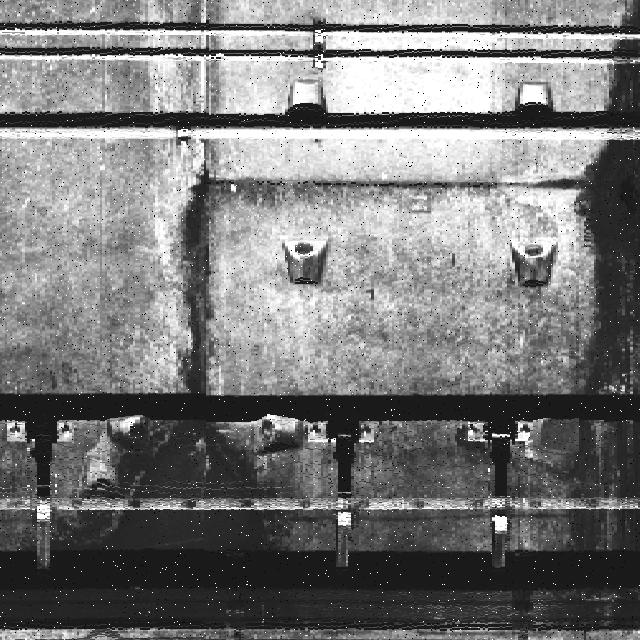leakage: (69, 172, 276, 555), (567, 6, 640, 631)
